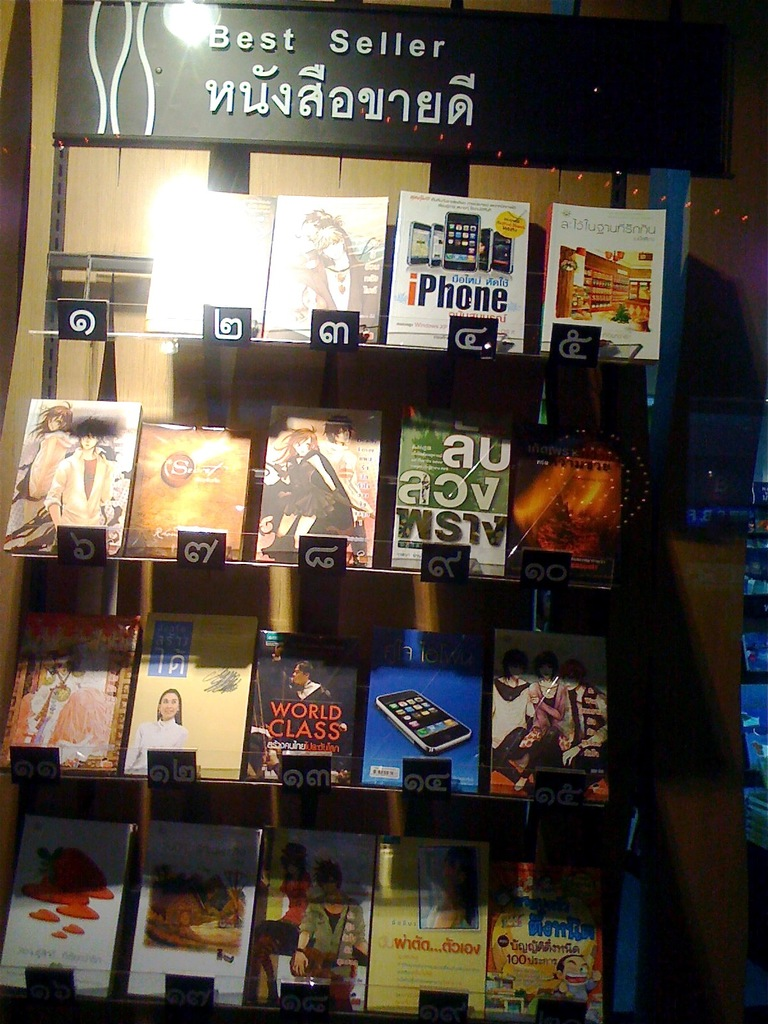Mobile-phone: (375, 689, 474, 755), (440, 212, 482, 271), (407, 221, 429, 266), (492, 230, 513, 273), (429, 221, 442, 268), (482, 228, 492, 271)
